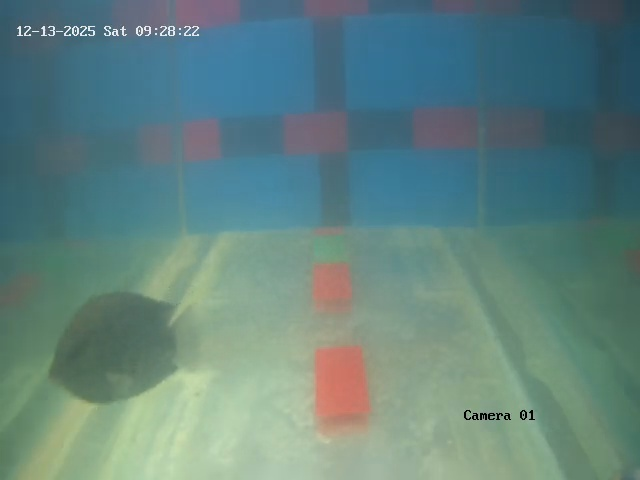fish: (45, 291, 193, 400)
